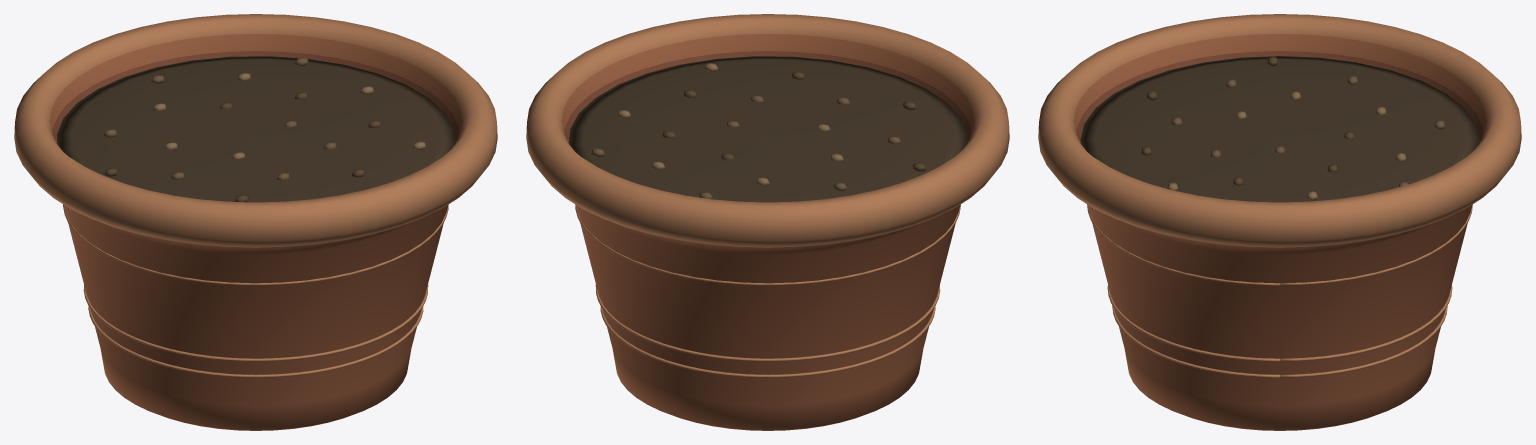
The model's file is planter.glb.
3 views of the same model, side by side, from view 1: azimuth 30°, elevation 25°; view 2: azimuth 150°, elevation 25°; view 3: azimuth 270°, elevation 25° (orthographic).
Parts seen in each view (by area): view 1: Planter_mesh; view 2: Planter_mesh; view 3: Planter_mesh.
Boxes of the visible parts, x1,y1,x2,y2 form: Planter_mesh: (14, 14, 497, 430); Planter_mesh: (526, 14, 1009, 430); Planter_mesh: (1038, 14, 1521, 430).
Size of the model in its own units: 0.724 by 0.428 by 0.724.
